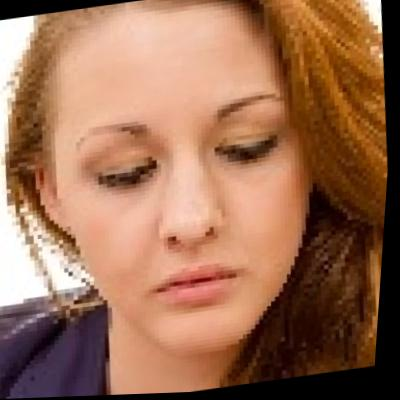sad: (22, 5, 338, 366)
